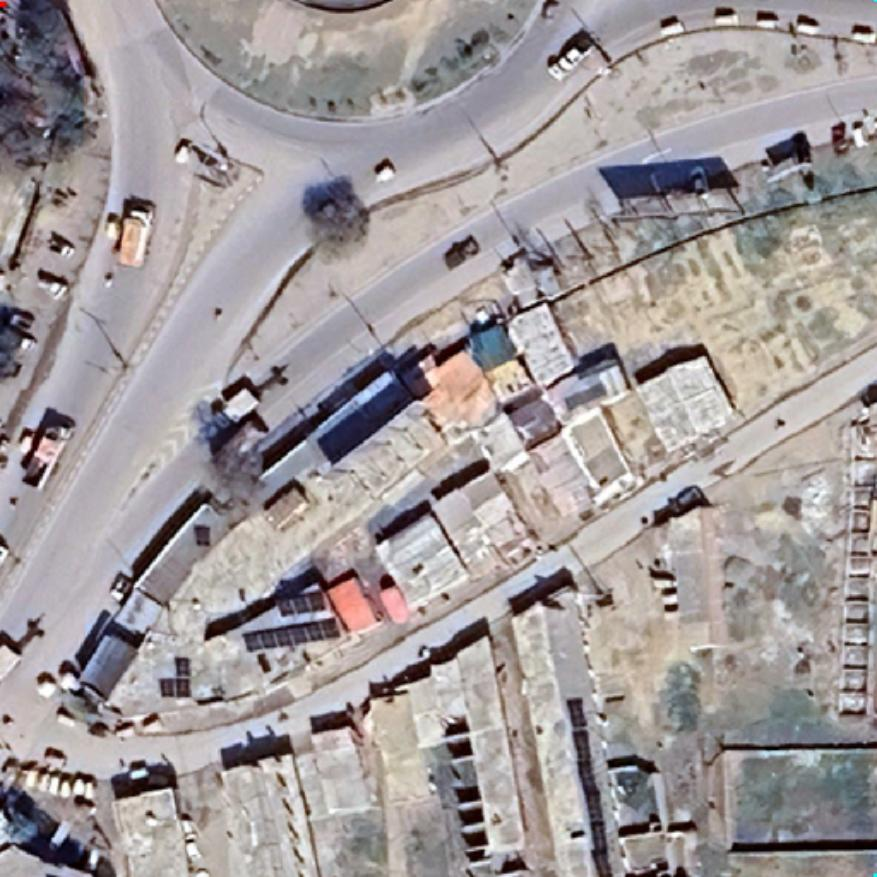Solarpanel: (236, 612, 348, 656), (269, 582, 332, 622), (155, 654, 195, 701)
